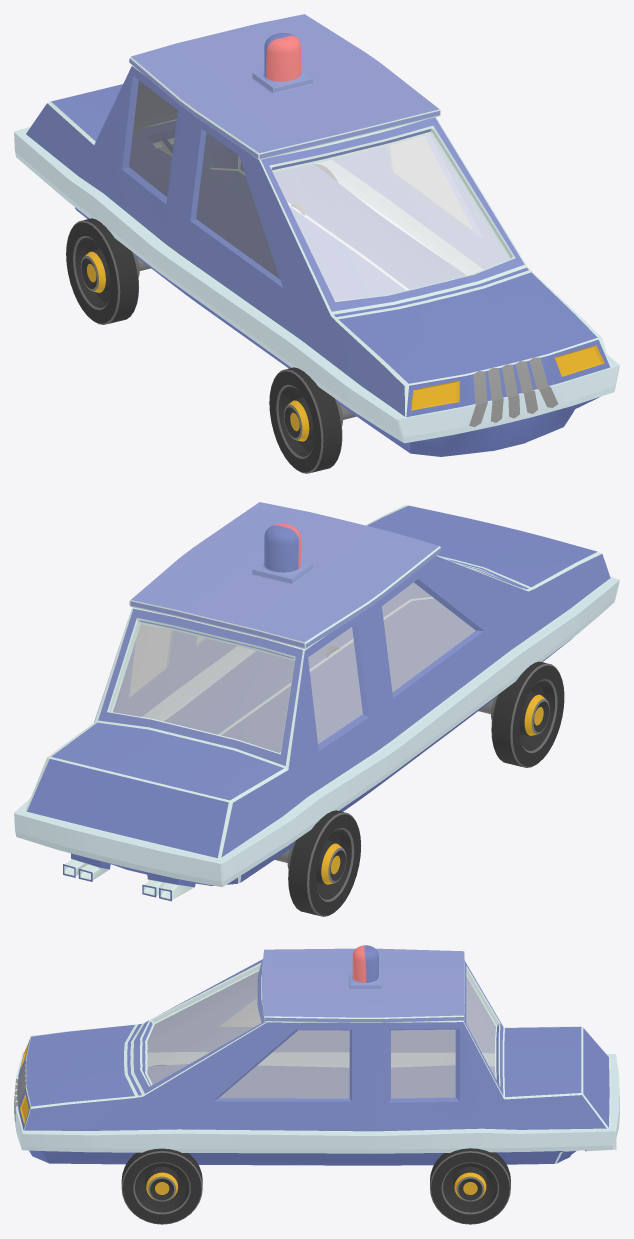
The model's file is Polizei.glb.
The picture shows the model from 3 angles, top to bottom: view 1: azimuth 30°, elevation 25°; view 2: azimuth 150°, elevation 25°; view 3: azimuth 270°, elevation 25°; orthographic projection. The views are drawn at different scales.
Parts seen in each view (by area): view 1: Auto, Räder; view 2: Auto, Räder; view 3: Auto, Räder.
Boxes of the visible parts, bbox=[...] form: Auto: bbox=[14, 14, 619, 456]; Räder: bbox=[66, 164, 356, 473]; Auto: bbox=[14, 502, 619, 901]; Räder: bbox=[275, 646, 564, 916]; Auto: bbox=[14, 945, 619, 1165]; Räder: bbox=[121, 1065, 510, 1224].
Size of the model in its own units: 4.93 by 5.79 by 13.71.
Materials: 4 (3 with a texture image).
